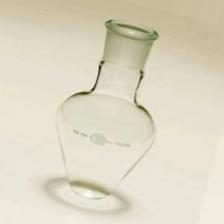Pear shaped flask: (52, 7, 160, 199)
